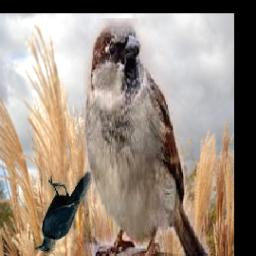Crow: (36, 172, 94, 255)
Sparrow: (83, 19, 209, 256)
